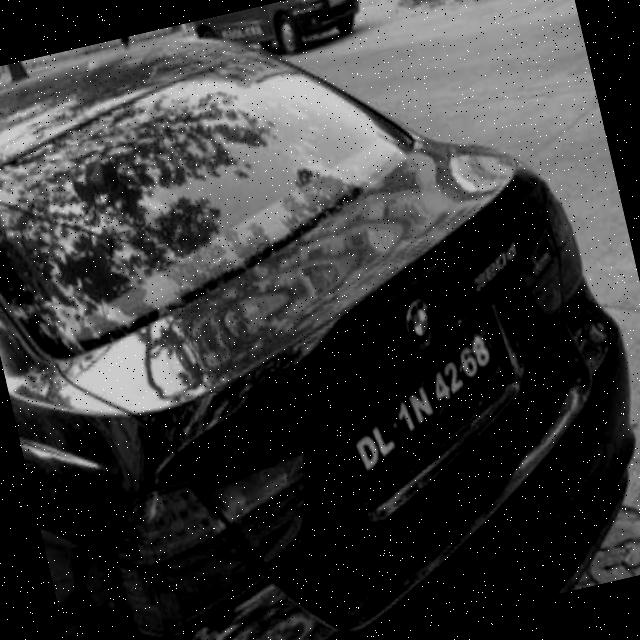Autre: (335, 296, 516, 514)
